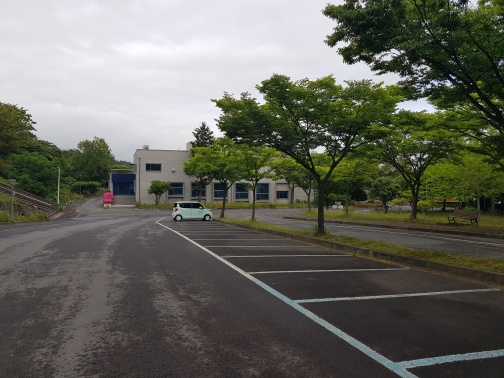College of Social Sciences: (108, 135, 315, 207)
